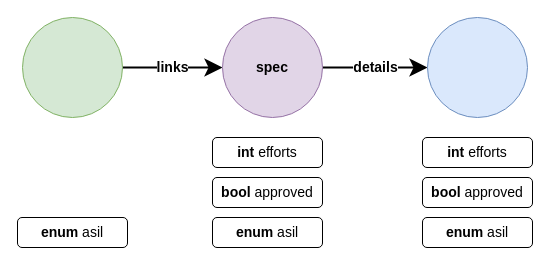
Some shapes in this 550 by 265 pixel diagram are drawn without their labels. The box of each missing label's shape, as (x1, y1, x2, y2) in pixels:
feat: (426, 16, 528, 118)
impl: (22, 16, 122, 118)
